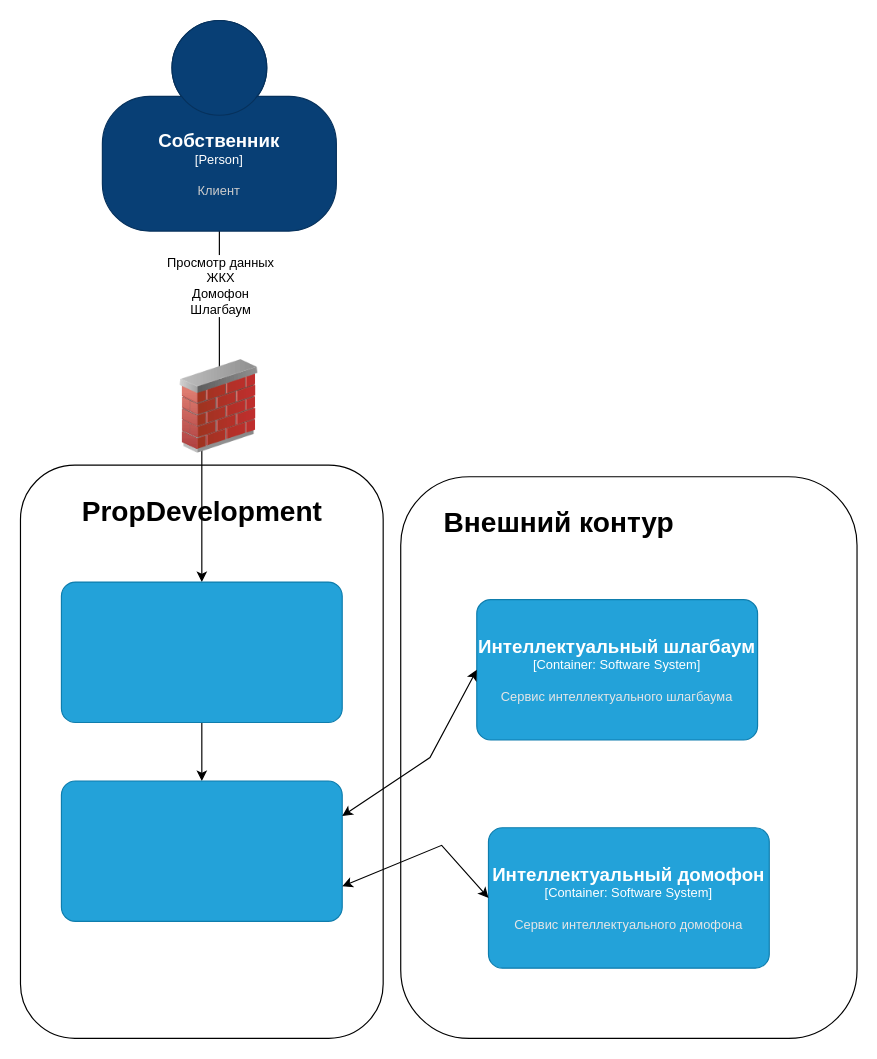
This 877x1059 diagram has some shape labels left out. The centre of each missing label's shape, as x and y in pixels:
"smart-home-backend [Container: Kotlin, Spring Boot] Сервис умного дома" goes at (x=201, y=850).
"Умный дом [Service: React, Javascript] UI управления умным домом" goes at (x=201, y=651).
